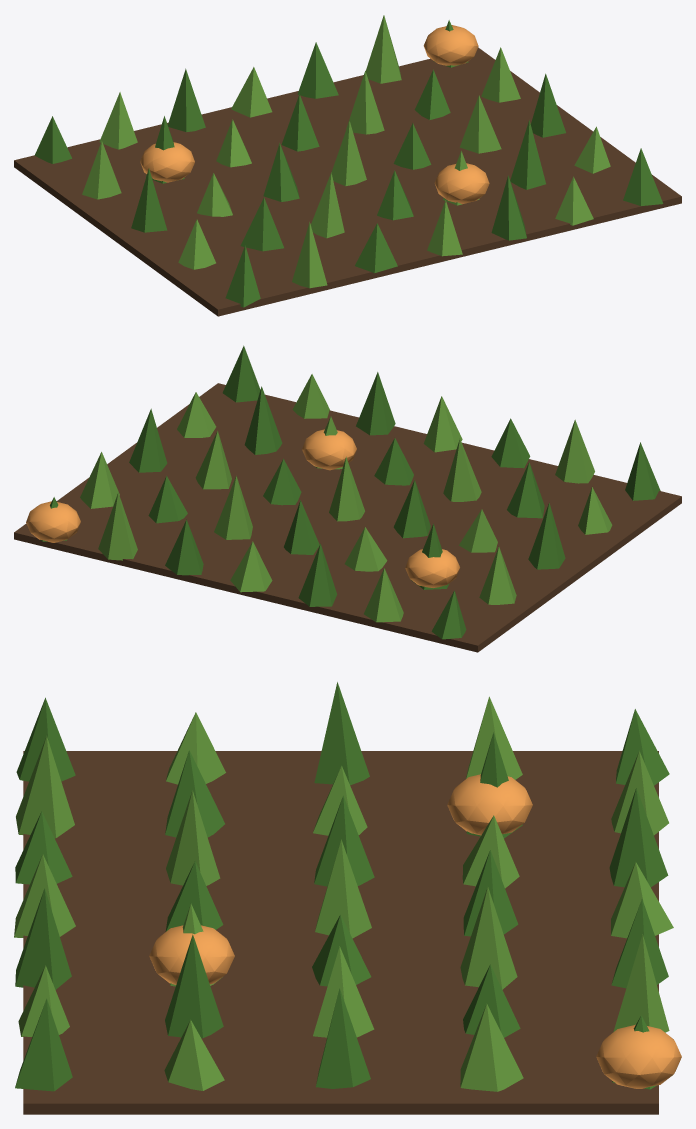
Rendered from crop_field.glb.
The picture shows the model from 3 angles, top to bottom: view 1: azimuth 30°, elevation 25°; view 2: azimuth 150°, elevation 25°; view 3: azimuth 270°, elevation 25°; orthographic projection. The views are drawn at different scales.
Visible parts, largest first — view 1: crop_field; view 2: crop_field; view 3: crop_field.
Part boxes in pixels (x1,y1,x2,y2): crop_field: [14, 15, 681, 316]; crop_field: [14, 345, 681, 652]; crop_field: [14, 682, 681, 1114].
Size of the model in its own units: 4.2 by 0.5881 by 3.36.
